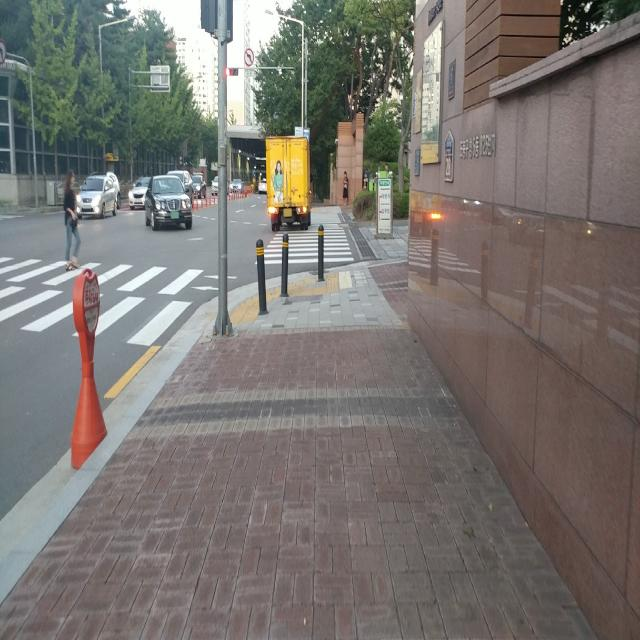횡단보도: (255, 205, 355, 266), (115, 263, 190, 338), (3, 263, 62, 325)
